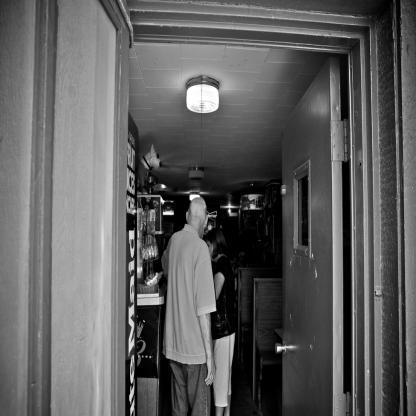door: (281, 132, 332, 416)
knob: (274, 340, 285, 356)
